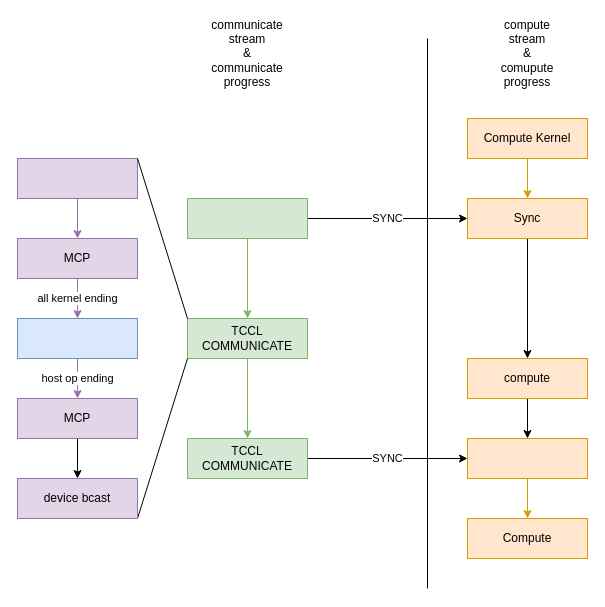
This 605x607 diagram has some shape labels left out. The shapes that lost their labels are listed below. From the top down, each one's centre as x and y in pixels, then its label:
At point 77,178: "device allreduce".
At point 247,218: "Wait Compute Kernel".
At point 77,338: "host allreduce".
At point 527,458: "Wait Communicate".
